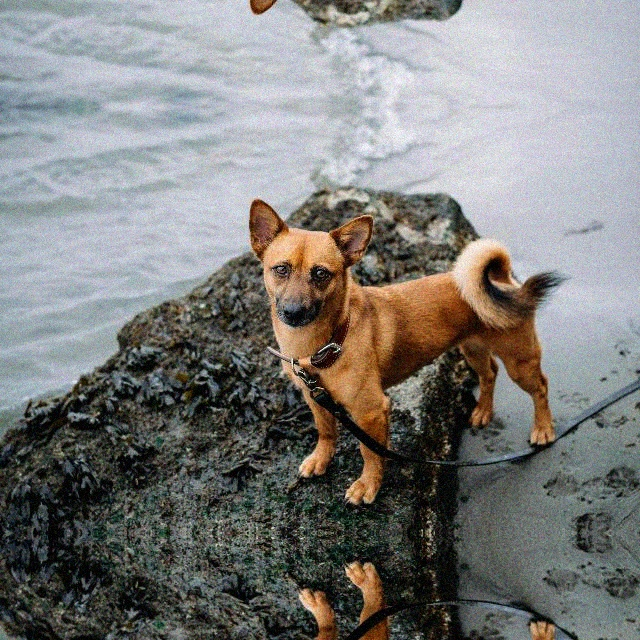dog: (238, 212, 557, 487), (238, 578, 557, 640)
